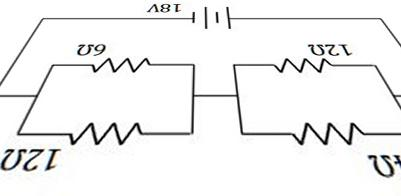resistor: (277, 114, 368, 156), (266, 47, 336, 79), (60, 119, 142, 145), (87, 54, 152, 81)
